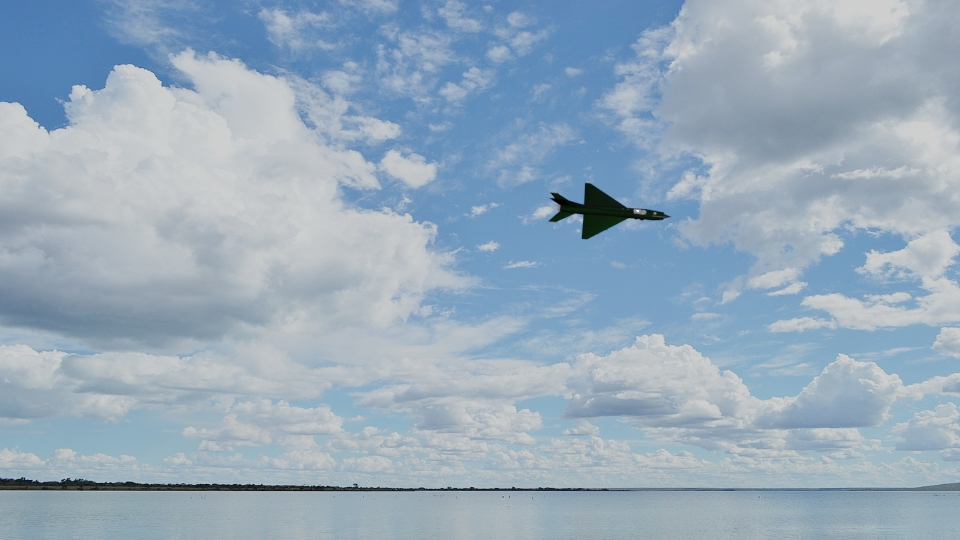plane: (546, 183, 673, 240)
